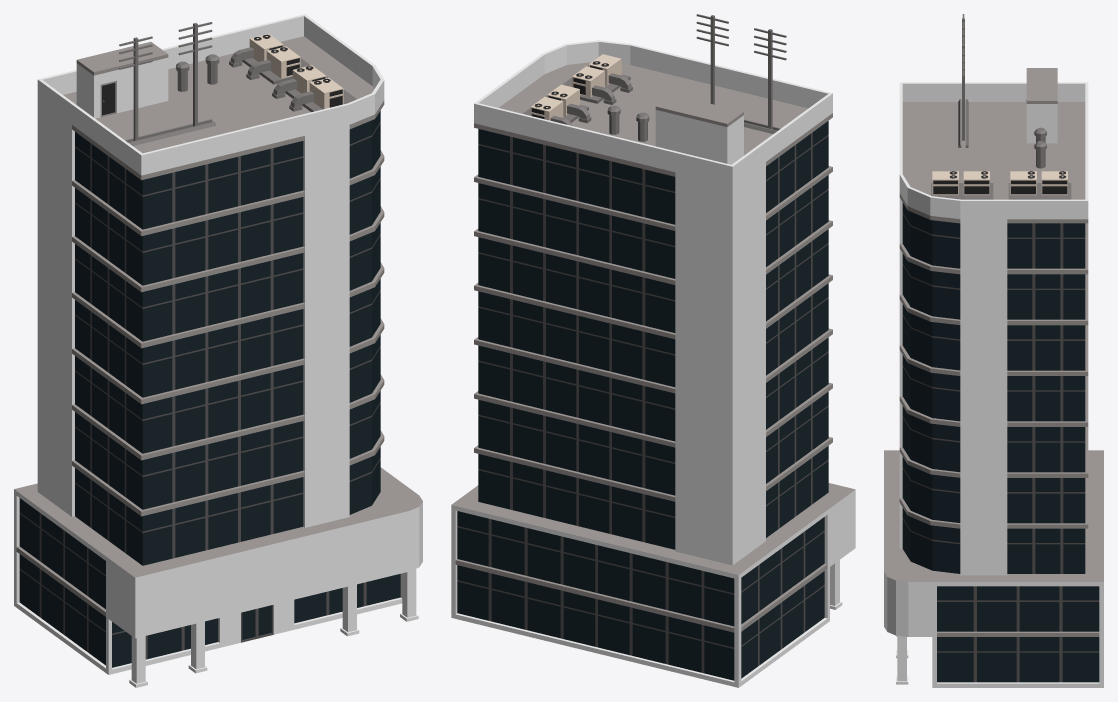
File: building-office-rounded.4aad48df.glb
3 renders of one model, left to right at view 1: azimuth 30°, elevation 25°; view 2: azimuth 150°, elevation 25°; view 3: azimuth 270°, elevation 25°, orthographic. The views are drawn at different scales.
Visible parts, largest first — view 1: building-office-rounded; view 2: building-office-rounded; view 3: building-office-rounded.
Boxes of the visible parts, bbox=[...] form: building-office-rounded: bbox=[14, 14, 422, 687]; building-office-rounded: bbox=[451, 14, 855, 687]; building-office-rounded: bbox=[884, 14, 1103, 687].
Size of the model in its own units: 20 by 39.4 by 14.1.
